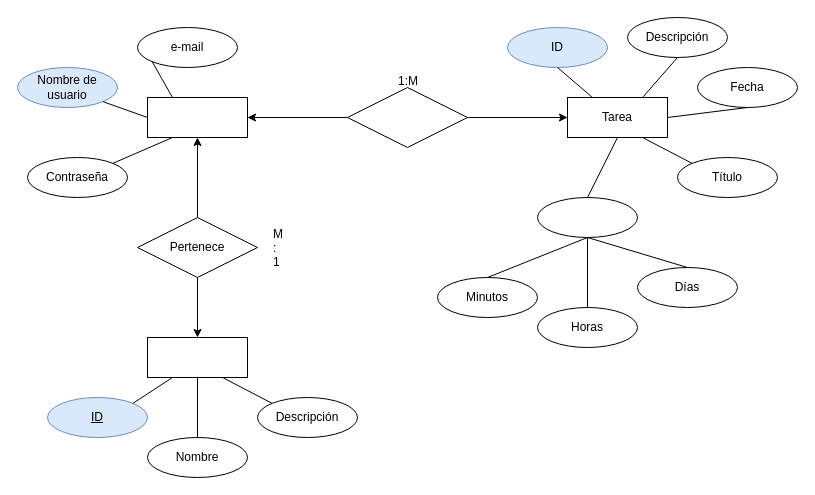
The diagram is 815 pixels wide and 495 high, and some of its shapes have lost their labels. Each missing label, with the centre of its shape:
"Recordatorio" belongs at point 587,217.
"Tiene" belongs at point 407,117.
"Tipo_usuario" belongs at point 197,357.
"Usuario" belongs at point 197,117.
